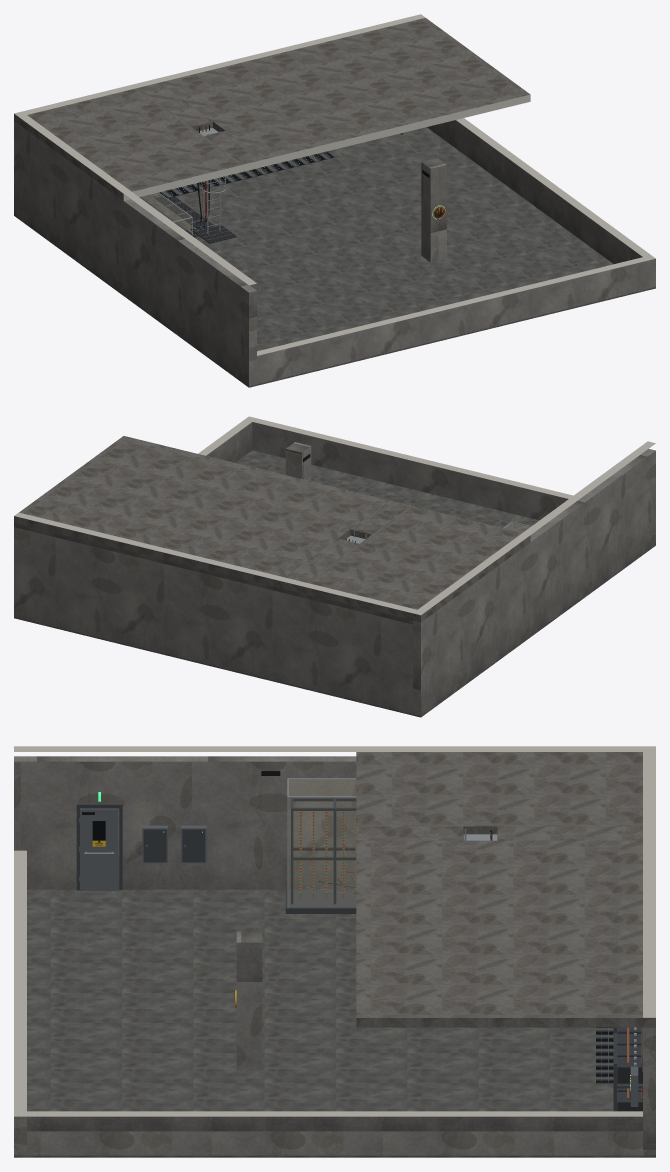
3 views of the same model, one above another, from view 1: azimuth 30°, elevation 25°; view 2: azimuth 150°, elevation 25°; view 3: azimuth 270°, elevation 25° (orthographic). The views are drawn at different scales.
Visible parts, largest first — view 1: piso, teto_b, parede_esquerda, teto_a, parede_frente_corte, parede_direita_corte, teto_corte, pilar, parede_fundo_corte_topo, parede_frente_corte_topo, parede_esquerda_corte_topo, parede_direita_corte_topo (+5 smaller); view 2: parede_fundo, teto_b, parede_esquerda, teto_a, parede_frente_corte, piso, parede_fundo_corte_topo, parede_esquerda_corte_topo, parede_frente_corte_topo, teto_c, teto_d, parede_direita_corte (+1 smaller); view 3: piso, teto_b, parede_esquerda, parede_direita_corte, teto_a, distribuidor_redoma, parede_esquerda_corte_topo, pilar, parede_direita_corte_topo, parede_frente_corte_topo, parede_fundo_corte_topo, porta_folha (+12 smaller).
Boxes of the visible parts, x1,y1,x2,y2 form: piso: [14, 127, 655, 387]; teto_b: [160, 18, 530, 159]; parede_esquerda: [14, 121, 256, 386]; teto_a: [14, 88, 242, 200]; parede_frente_corte: [257, 258, 655, 384]; parede_direita_corte: [427, 120, 642, 263]; teto_corte: [123, 94, 530, 200]; pilar: [421, 158, 446, 262]; parede_fundo_corte_topo: [22, 14, 425, 114]; parede_frente_corte_topo: [257, 255, 655, 355]; parede_esquerda_corte_topo: [14, 111, 256, 285]; parede_direita_corte_topo: [456, 118, 650, 256]; parede_fundo: [14, 523, 412, 713]; teto_b: [14, 436, 388, 587]; parede_esquerda: [413, 449, 655, 715]; teto_a: [301, 506, 530, 622]; parede_frente_corte: [252, 422, 568, 520]; piso: [14, 450, 655, 717]; parede_fundo_corte_topo: [14, 512, 416, 613]; parede_esquerda_corte_topo: [413, 441, 655, 615]; parede_frente_corte_topo: [244, 416, 573, 498]; teto_c: [280, 538, 359, 593]; teto_d: [350, 500, 410, 538]; parede_direita_corte: [206, 422, 252, 462]; piso: [14, 889, 655, 1157]; teto_b: [356, 840, 655, 1027]; parede_esquerda: [14, 756, 356, 889]; parede_direita_corte: [27, 1116, 642, 1155]; teto_a: [356, 752, 642, 835]; distribuidor_redoma: [289, 780, 355, 907]; parede_esquerda_corte_topo: [14, 746, 655, 751]; pilar: [236, 931, 262, 1070]; parede_direita_corte_topo: [27, 1111, 642, 1116]; parede_frente_corte_topo: [14, 850, 26, 1116]; parede_fundo_corte_topo: [643, 752, 655, 1017]; porta_folha: [80, 808, 118, 890].
Bounding box in the file's own units: 1.5 × 0.3603 × 1.5.
Materials: 28 (6 with a texture image).
